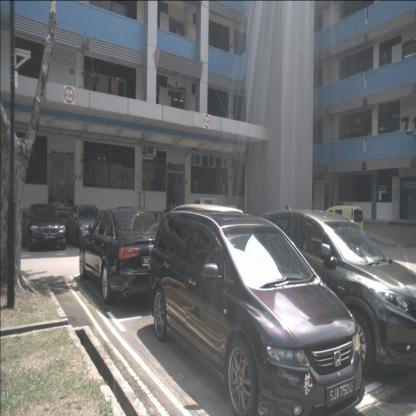vehicle-car: (146, 210, 366, 415), (239, 205, 416, 382), (78, 206, 172, 307), (20, 204, 68, 252), (65, 204, 106, 249), (320, 205, 364, 240)
